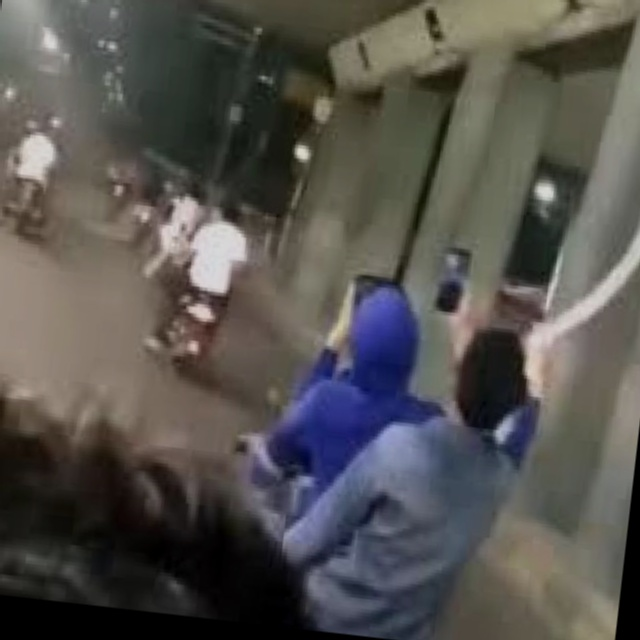Sharp-Object: (522, 58, 640, 430)
